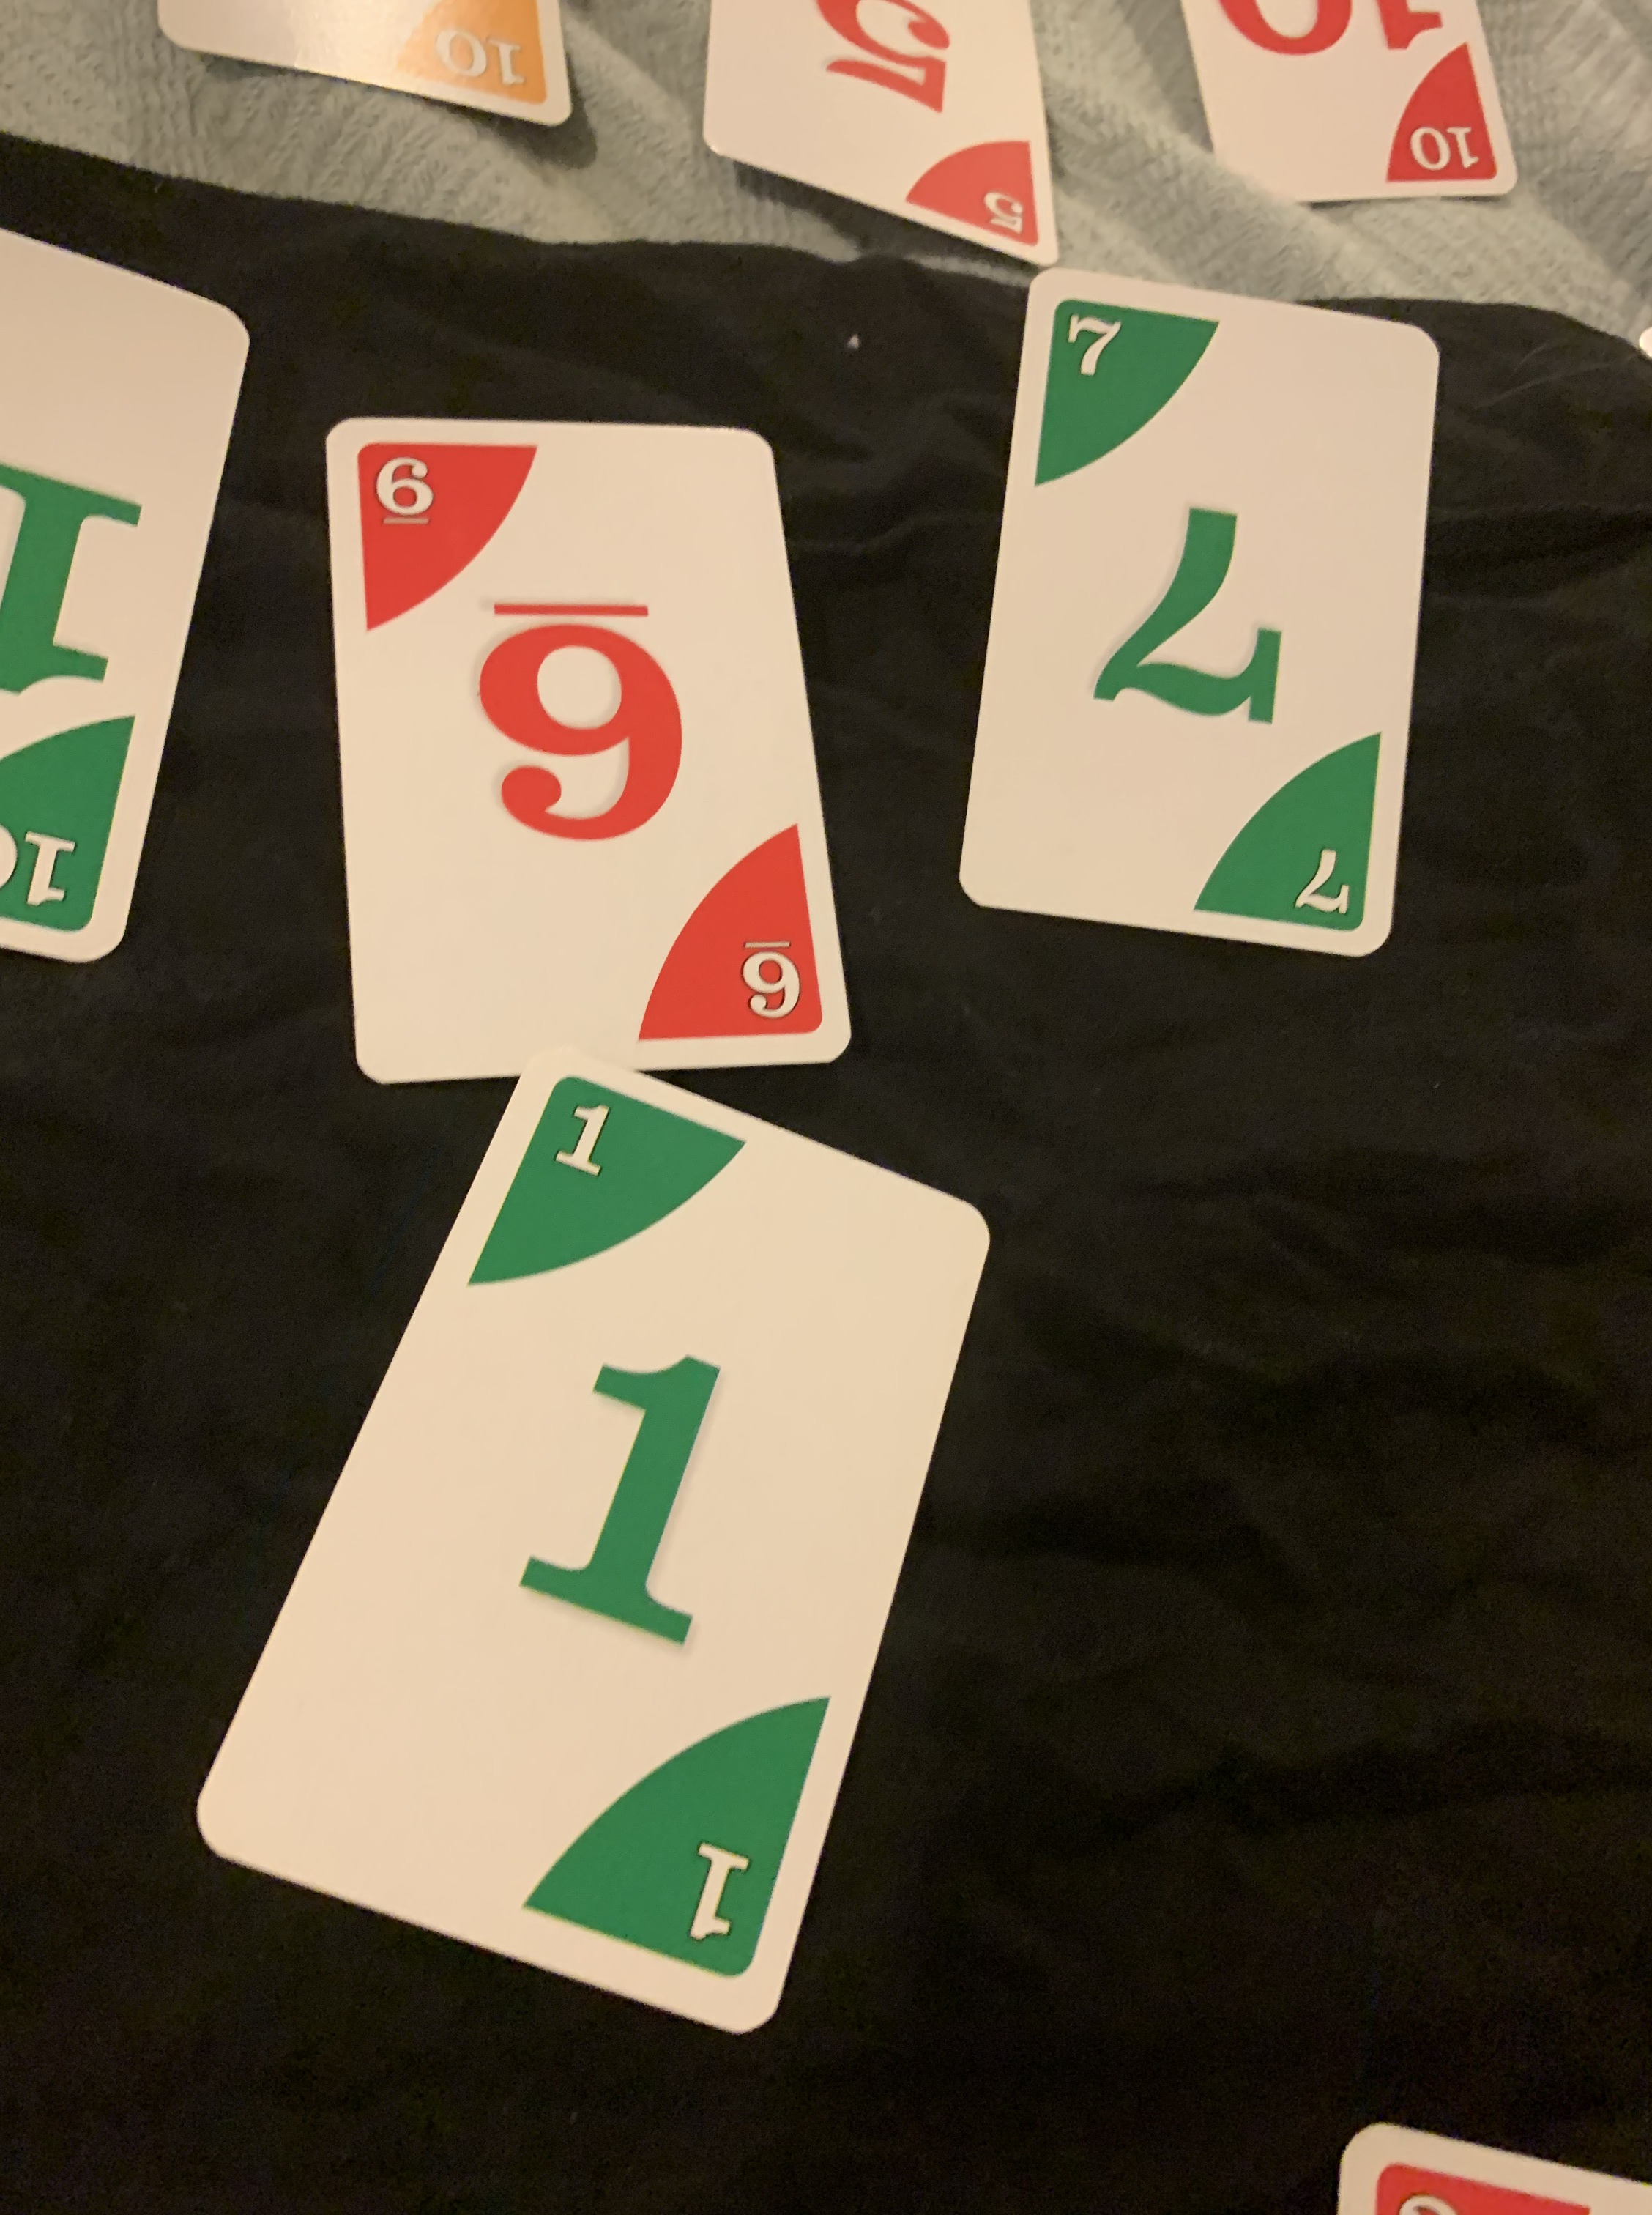one: (177, 1061, 986, 2031)
seven: (958, 253, 1440, 962)
six: (307, 380, 847, 1094)
